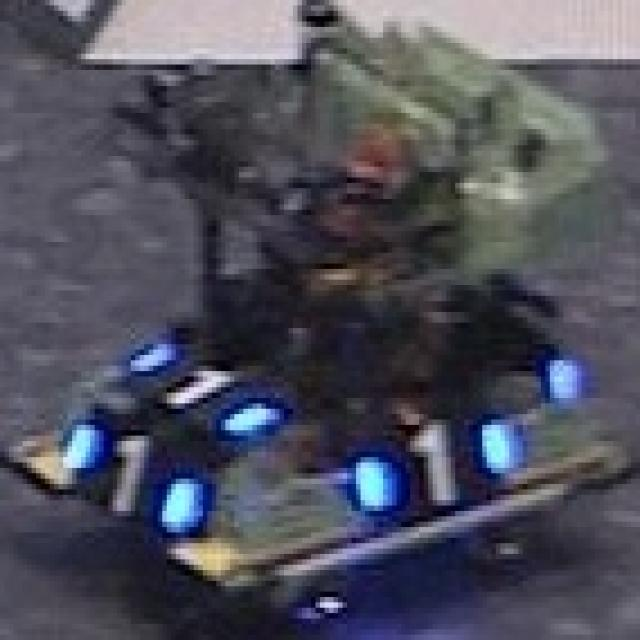B1: (351, 414, 514, 516), (58, 414, 194, 527)
